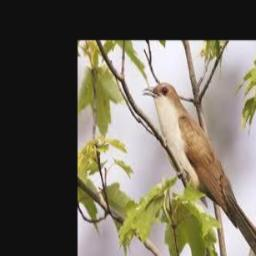Cuckoo: (142, 82, 256, 256)
